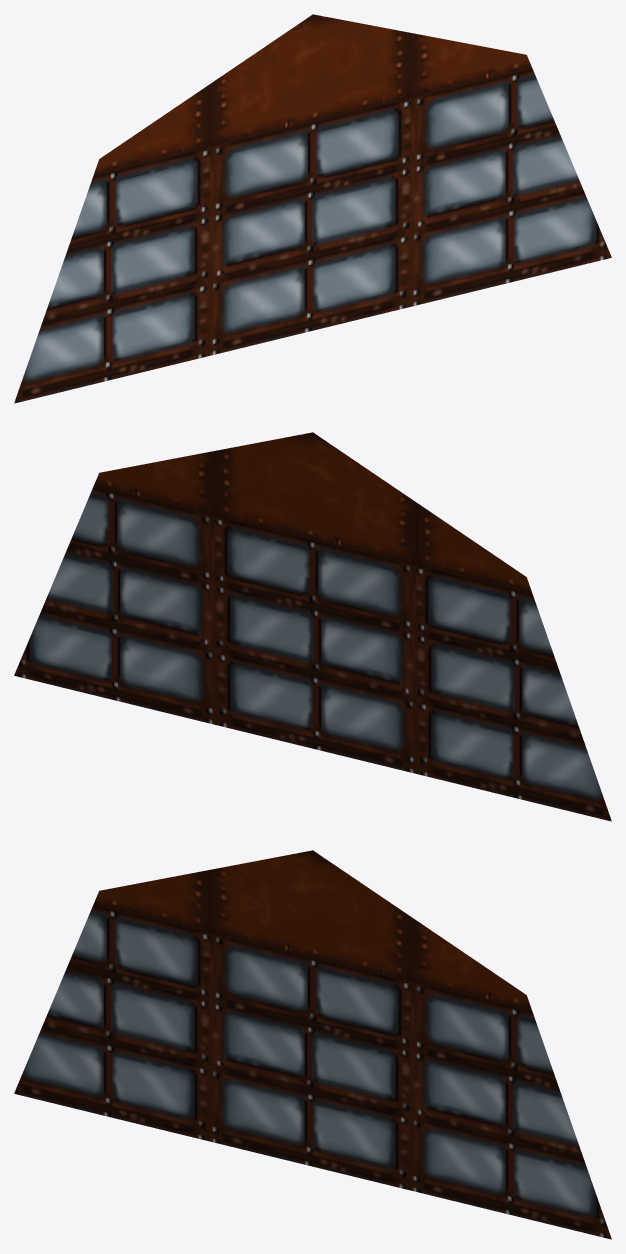
The model's file is halbtonne_abschlusz2_1130.glb.
3 views of the same model, one above another, from view 1: azimuth 30°, elevation 25°; view 2: azimuth 150°, elevation 25°; view 3: azimuth 330°, elevation 25° (orthographic).
Parts seen in each view (by area): view 1: polySurfaceShape1; view 2: polySurfaceShape1; view 3: polySurfaceShape1.
Boxes of the visible parts, bbox=[...] form: polySurfaceShape1: bbox=[14, 14, 611, 403]; polySurfaceShape1: bbox=[14, 432, 611, 821]; polySurfaceShape1: bbox=[14, 850, 611, 1239].
Bounding box in the file's own units: 1 × 0.5056 × 2.21e-08.
Materials: 1 (1 with a texture image).
